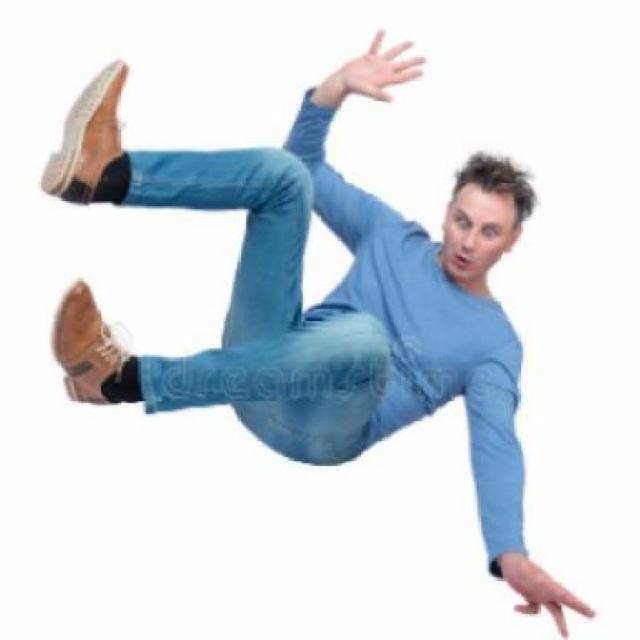fall: (39, 22, 602, 638)
